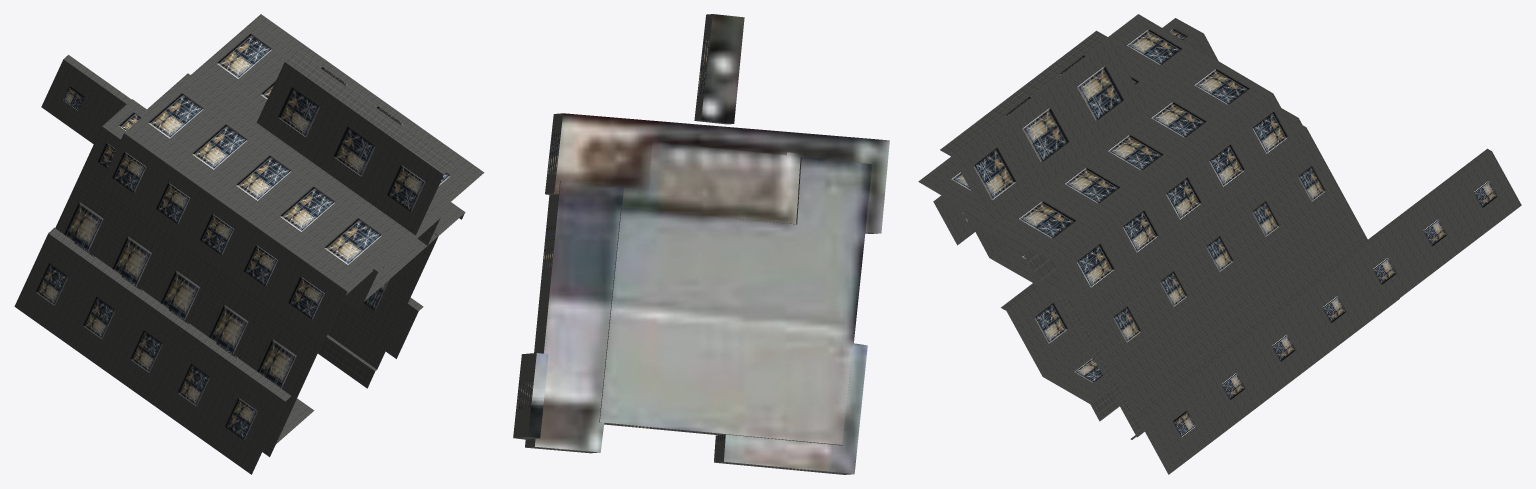
3 views of the same model, side by side, from view 1: azimuth 30°, elevation 25°; view 2: azimuth 150°, elevation 25°; view 3: azimuth 270°, elevation 25° (orthographic). The views are drawn at different scales.
Size of the model in its own units: 22.69 by 23.16 by 32.37.
23 materials, 23 textured.
